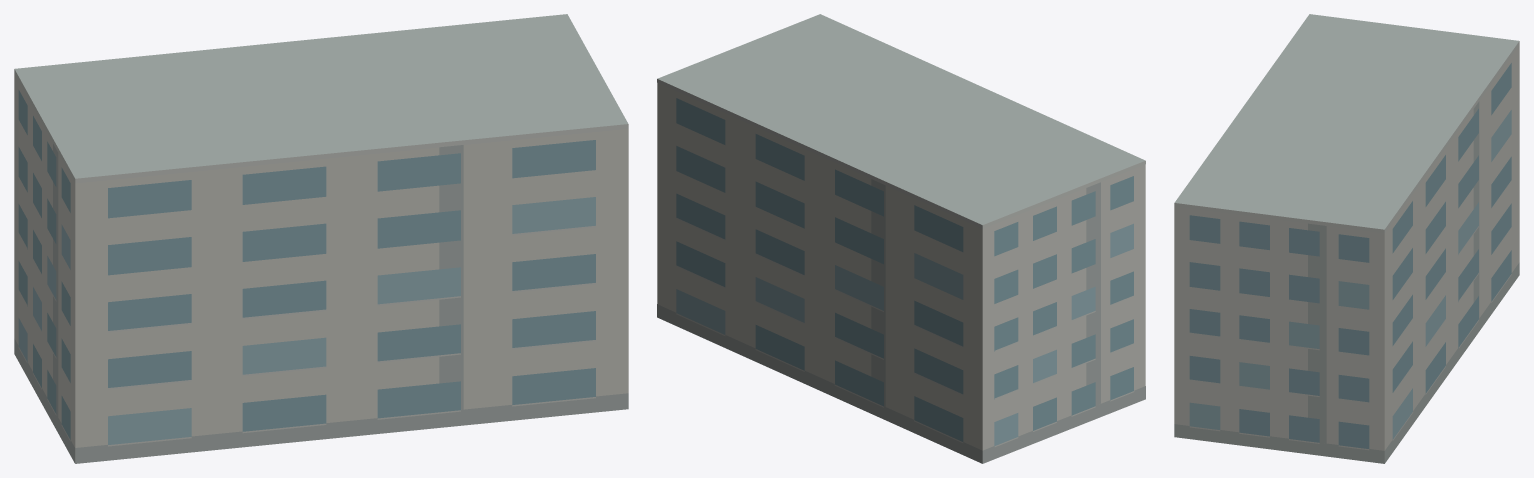
Rendered from residential-324c1140-a231-40ef-9f3d-98626cf1c45c.glb.
3 renders of one model, left to right at view 1: azimuth 30°, elevation 25°; view 2: azimuth 150°, elevation 25°; view 3: azimuth 270°, elevation 25°, orthographic. The views are drawn at different scales.
Parts seen in each view (by area): view 1: residential-324c1140-a231-40ef-9f3d-98626cf1c45c.tmp; view 2: residential-324c1140-a231-40ef-9f3d-98626cf1c45c.tmp; view 3: residential-324c1140-a231-40ef-9f3d-98626cf1c45c.tmp.
Boxes of the visible parts, <box> form: residential-324c1140-a231-40ef-9f3d-98626cf1c45c.tmp: <box>14,14,628,463</box>; residential-324c1140-a231-40ef-9f3d-98626cf1c45c.tmp: <box>657,14,1145,463</box>; residential-324c1140-a231-40ef-9f3d-98626cf1c45c.tmp: <box>1174,14,1519,463</box>.
Bounding box in the file's own units: 30.12 × 15.25 × 20.37.
